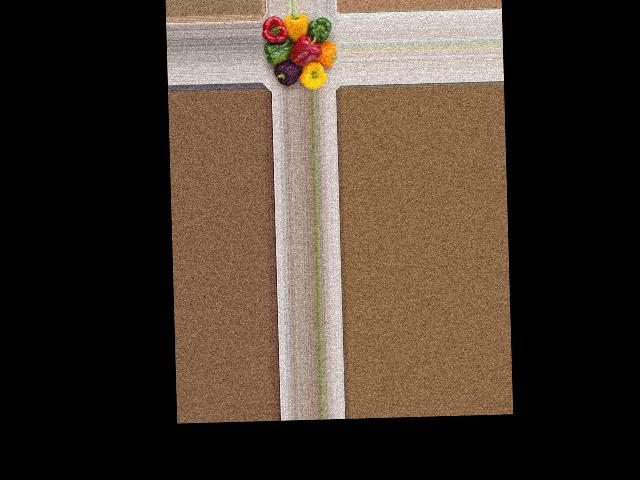bell_pepper: (266, 54, 302, 85)
